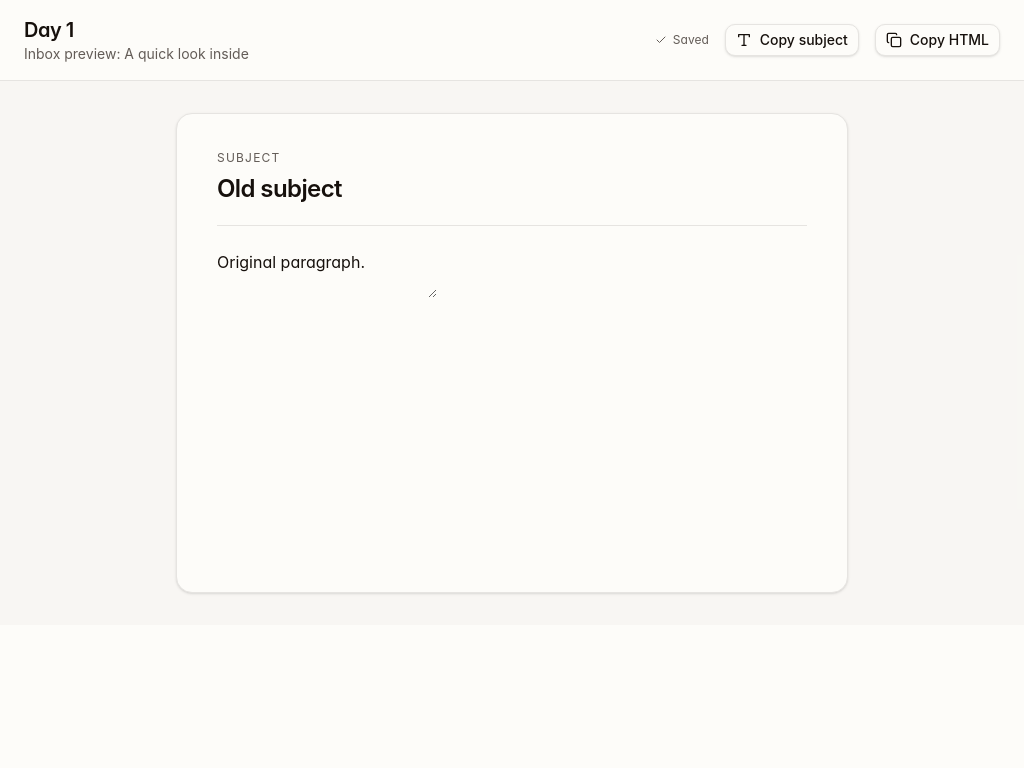
Test: EmailPreview: an AI edit to one field › keeps a subject typed while a body-only edit lands, and saves both
Replace the text in the text box named "subject" with "New sharper subject" at (512, 188), box [217,172,807,205]
Wait 1400 ms
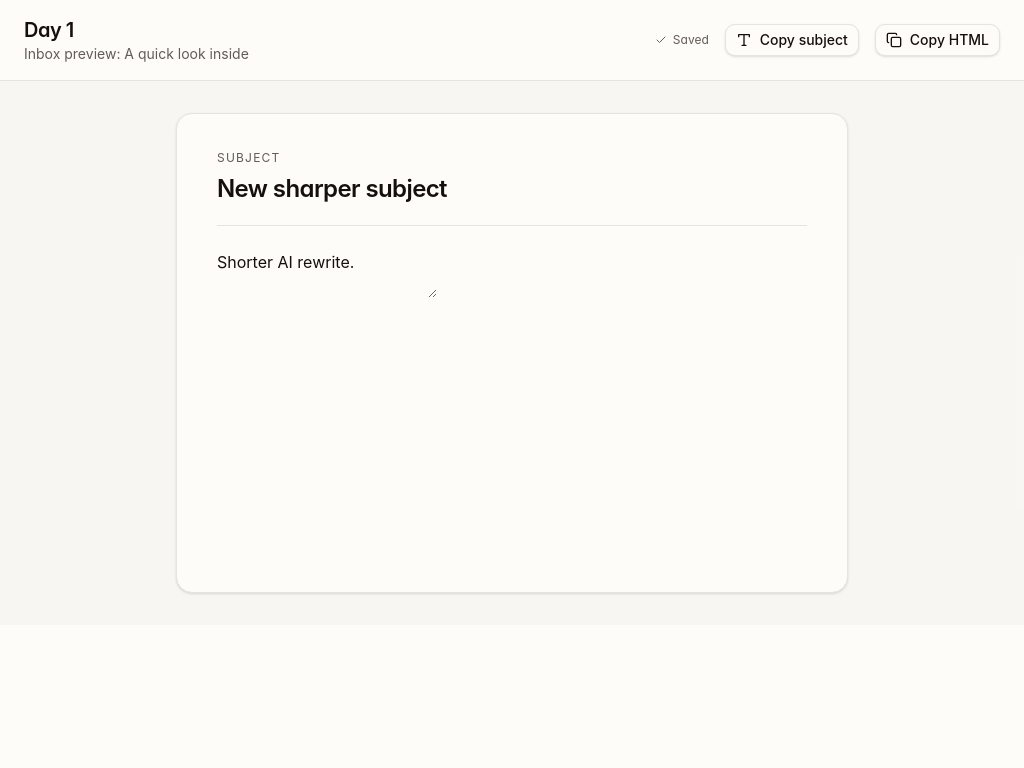
Expected: the text box named "Body" holds "Shorter AI rewrite.", [217,250,437,298]
